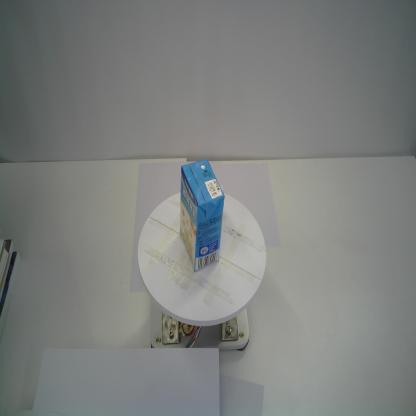Milk: (176, 159, 226, 272)
